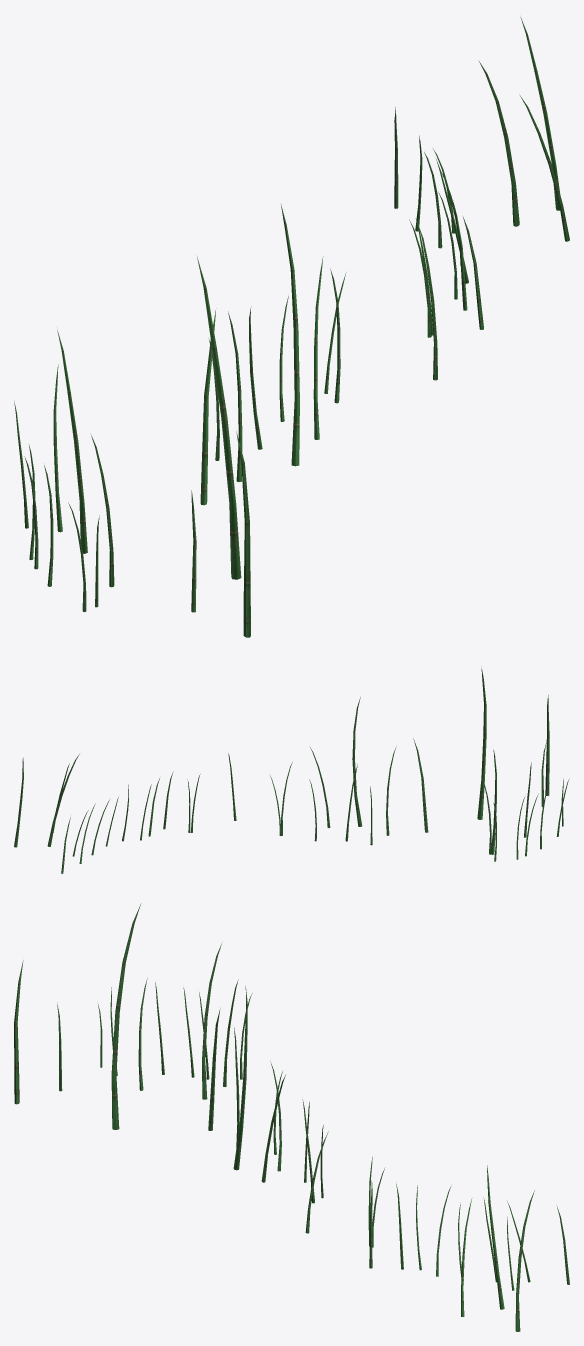
The model's file is Area_10_5.fbx.
3 renders of one model, top to bottom at view 1: azimuth 30°, elevation 25°; view 2: azimuth 150°, elevation 25°; view 3: azimuth 270°, elevation 25°, orthographic. The views are drawn at different scales.
Parts seen in each view (by area): view 1: Area_10_5; view 2: Area_10_5; view 3: Area_10_5.
Boxes of the visible parts, x1,y1,x2,y2 form: Area_10_5: [14, 17, 569, 637]; Area_10_5: [14, 666, 569, 873]; Area_10_5: [14, 903, 569, 1331].
Bounding box in the file's own units: 5383 × 2064 × 4732.
